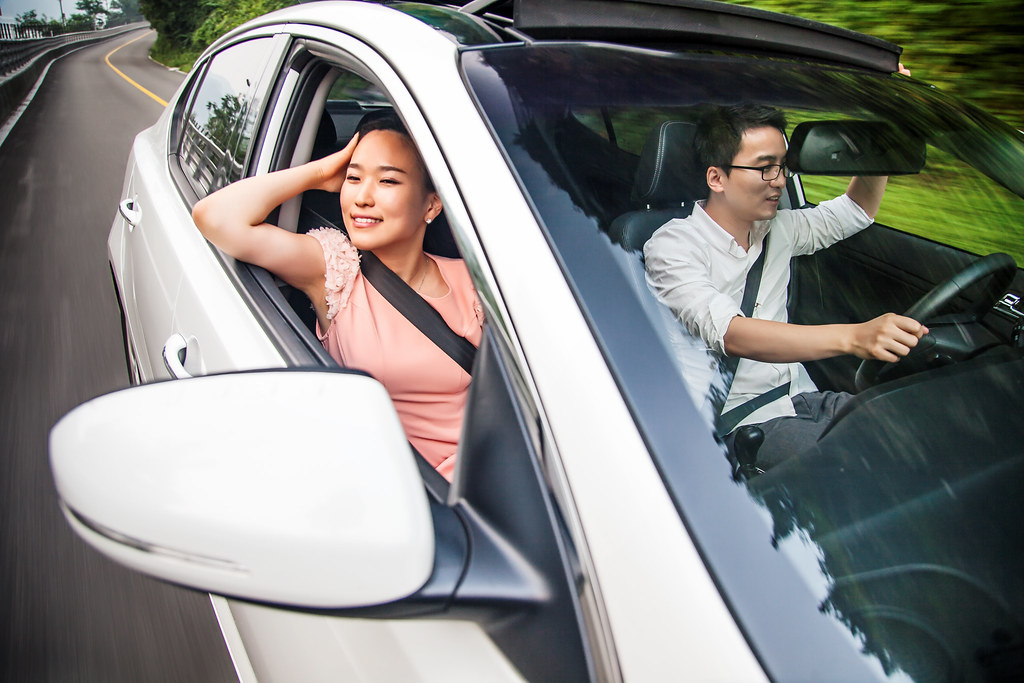person: (627, 59, 984, 446), (181, 75, 492, 504)
